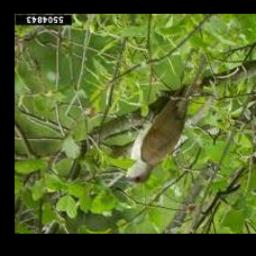Cuckoo: (121, 54, 207, 184)
